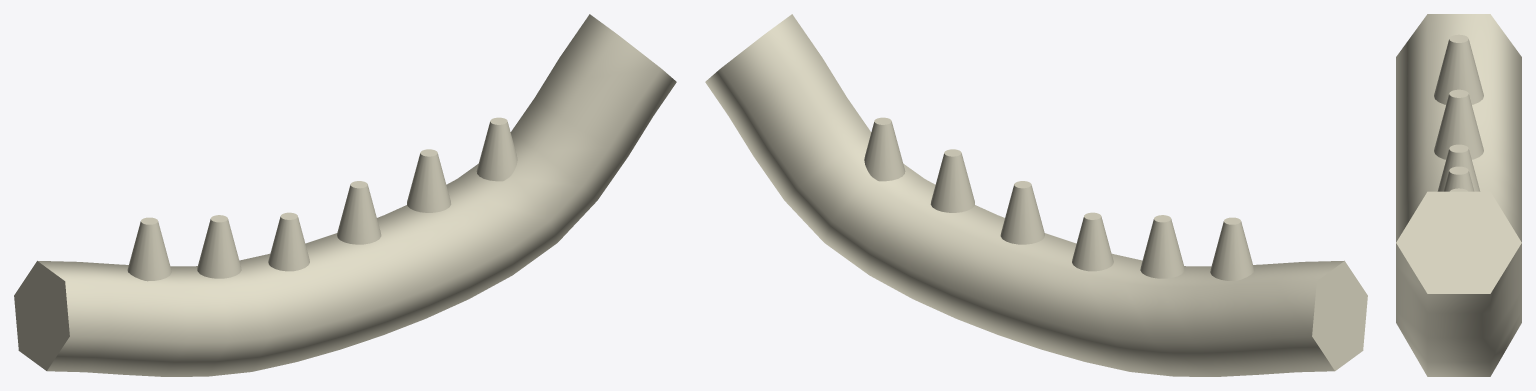
Rendered from prehistoric-expedition-sites-jaw-fragment-e6c20060__26110.glb.
3 views of the same model, side by side, from view 1: azimuth 30°, elevation 25°; view 2: azimuth 150°, elevation 25°; view 3: azimuth 270°, elevation 25° (orthographic). The views are drawn at different scales.
Parts seen in each view (by area): view 1: jaw-fragment; view 2: jaw-fragment; view 3: jaw-fragment.
Boxes of the visible parts, left/top/right/bottom form: jaw-fragment: left=14, top=14, right=676, bottom=376; jaw-fragment: left=705, top=14, right=1367, bottom=376; jaw-fragment: left=1396, top=14, right=1521, bottom=376.
Bounding box in the file's own units: 0.5861 × 0.2216 × 0.09.
